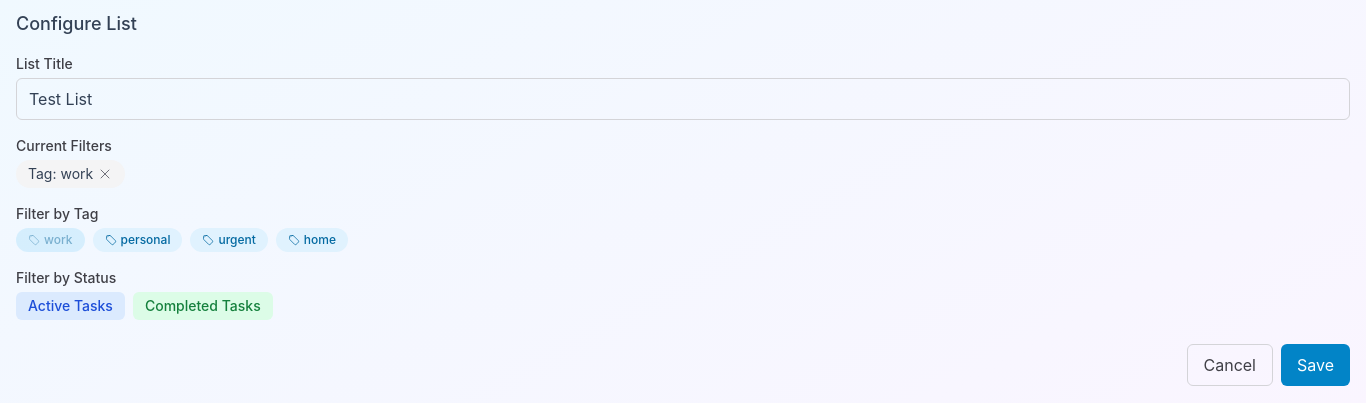
it: TaskListConfig Component › adds a completion filter for active tasks
This screenshot has width=1366, height=403.
Note: Click on the active tasks filter button
Click the button with test id "active-tasks-filter" at [70, 306], box [16, 292, 125, 320]
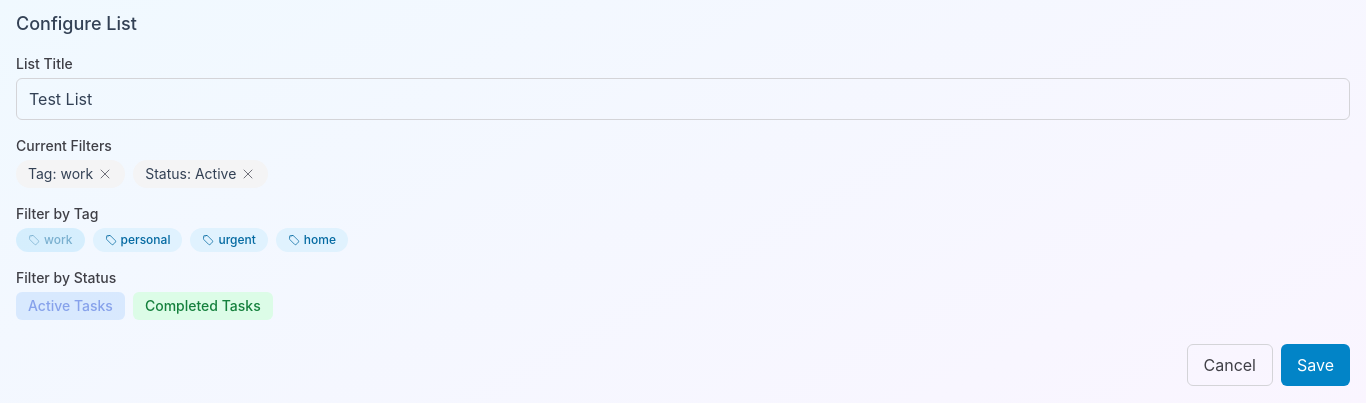
Expected: the text "Status: Active" is shown, [145, 164, 236, 184]
